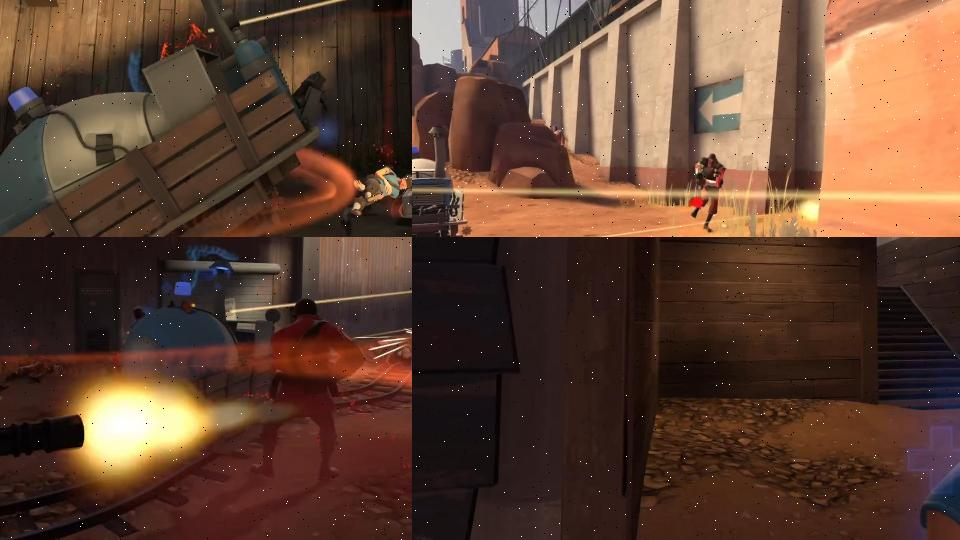Enemy: (0, 237, 87, 540), (249, 298, 364, 483), (681, 151, 732, 234), (350, 164, 412, 215)
